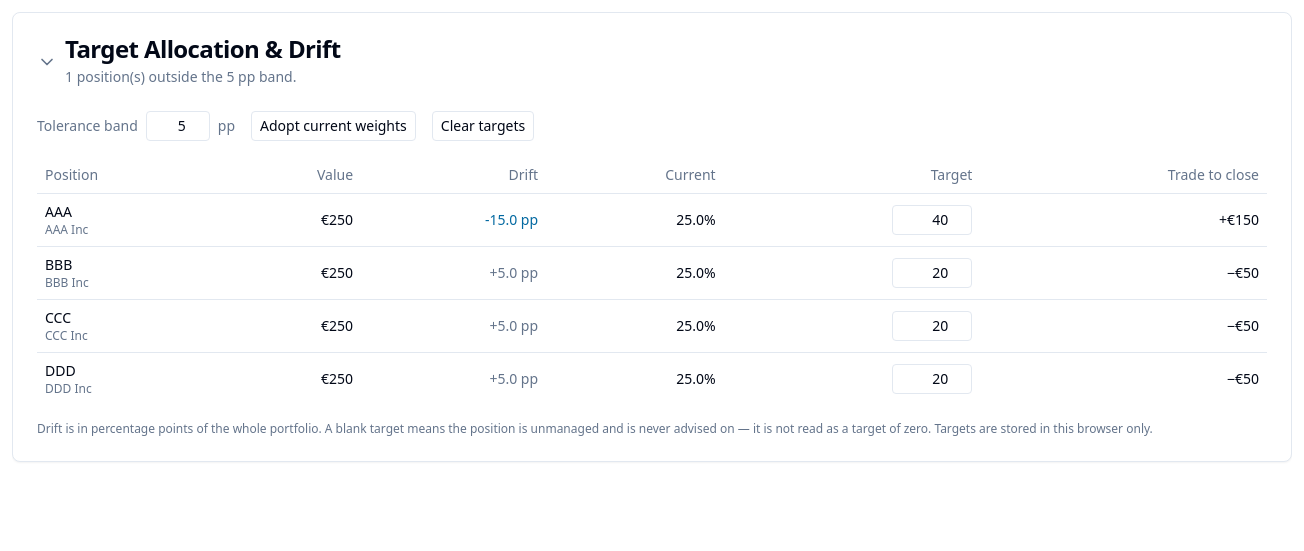
it: RebalanceCard › clearing a field › leaves the position unadvised afterwards
The width and height of the screenshot is (1304, 551).
Step 1. Clear the number field named "Target weight for AAA" → (932, 220), box [892,205,972,235]
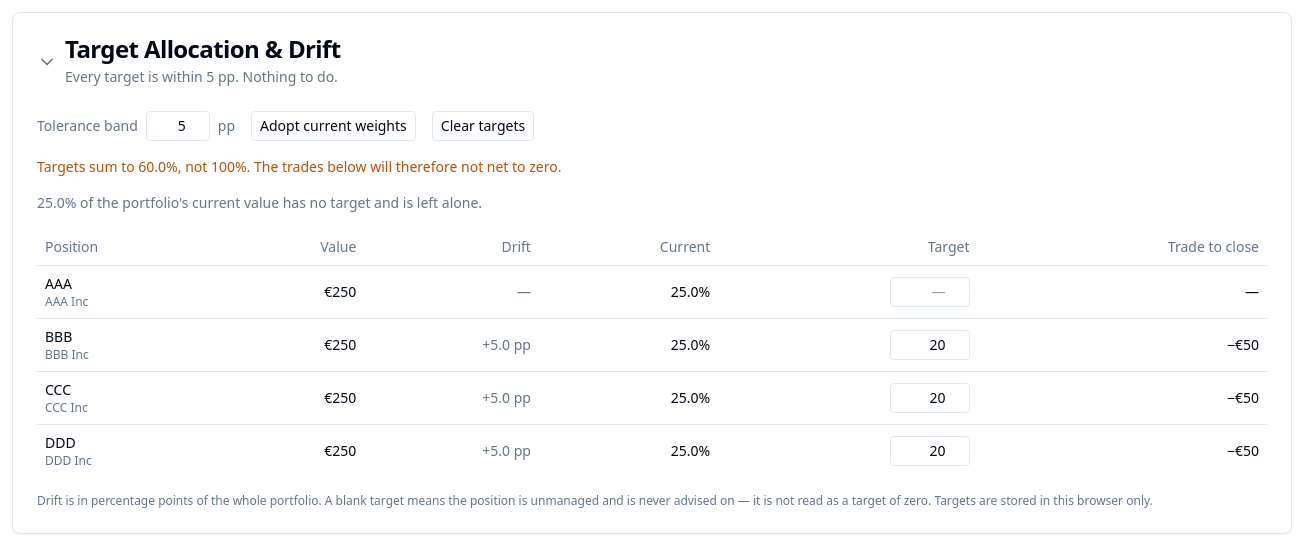
Result: the row named "Target weight for AAA" shows "—" at [517,282,531,301]
Result: the field labelled "Target weight for AAA" no longer shows "pp"
